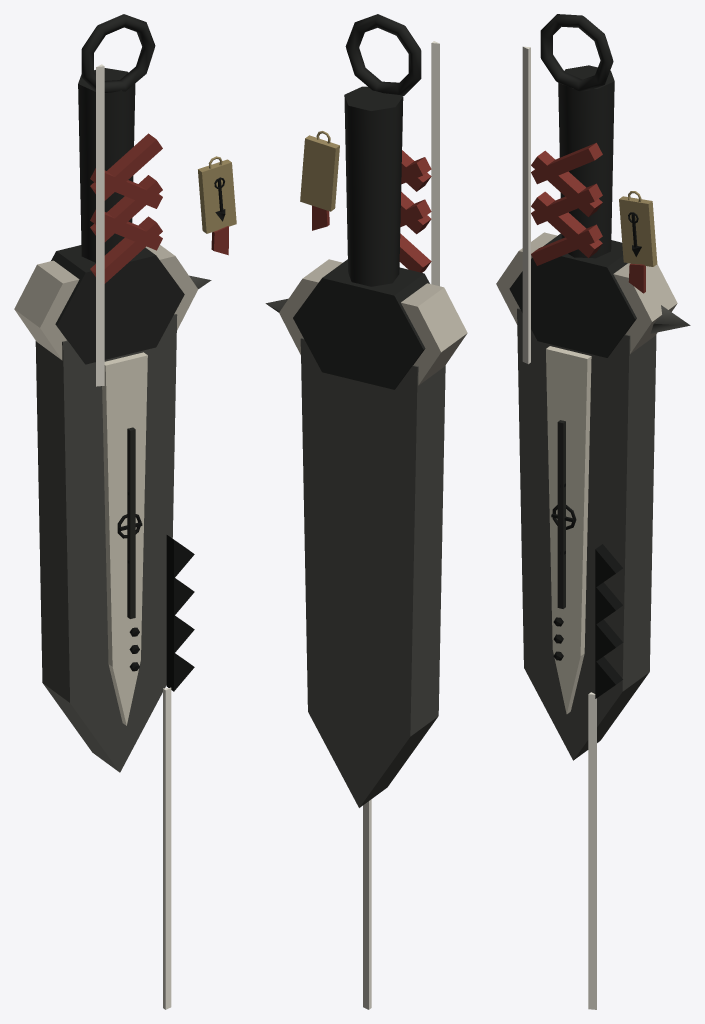
The model's file is fantasy-faceted-scout-shortsword-v1.glb.
3 views of the same model, side by side, from view 1: azimuth 30°, elevation 25°; view 2: azimuth 150°, elevation 25°; view 3: azimuth 330°, elevation 25° (orthographic). The views are drawn at different scales.
Visible parts, largest first — view 1: Scout Shortsword; view 2: Scout Shortsword; view 3: Scout Shortsword.
Part boxes in pixels (<box>): Scout Shortsword: <box>14,14,236,1009</box>; Scout Shortsword: <box>265,14,467,1009</box>; Scout Shortsword: <box>496,14,690,1009</box>.
Size of the model in its own units: 1.16 by 5.91 by 0.5569.
